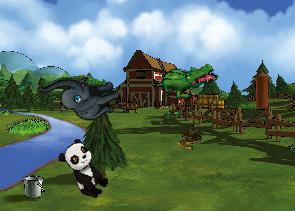crocodile: (151, 48, 220, 112)
elephant: (38, 55, 125, 136)
panda: (54, 136, 115, 203)
